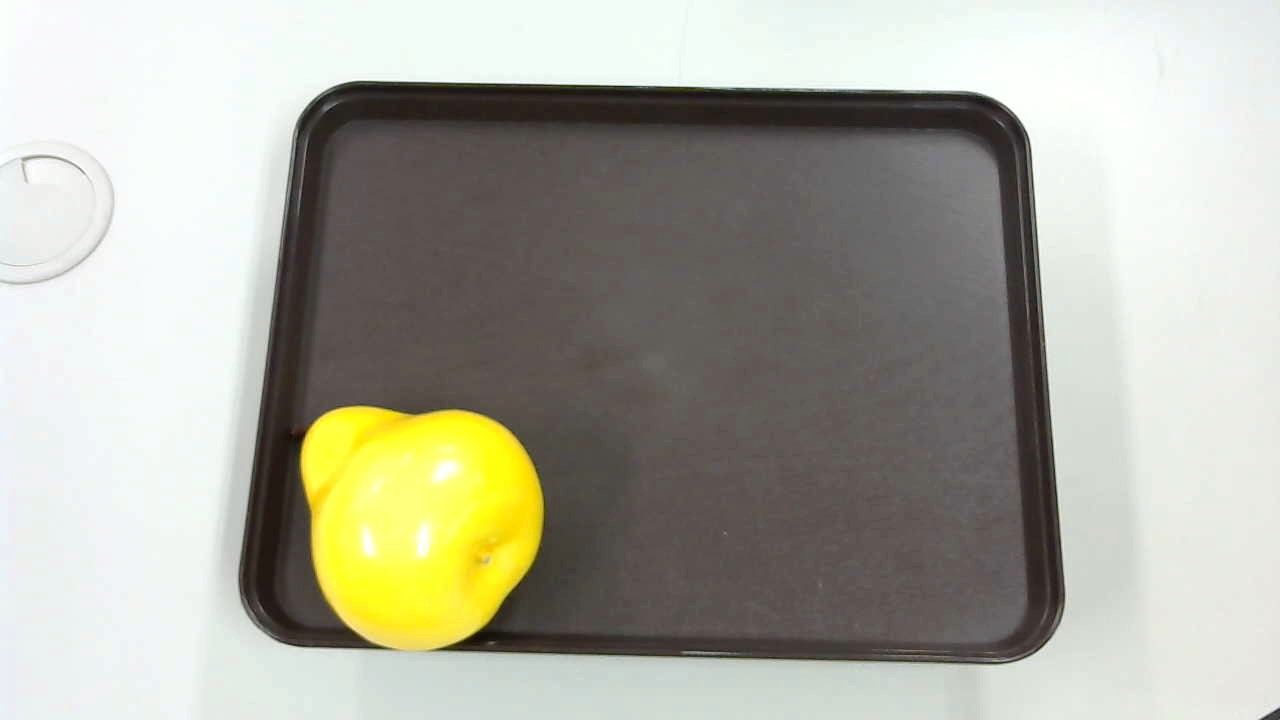yellow pear: (281, 396, 549, 658)
